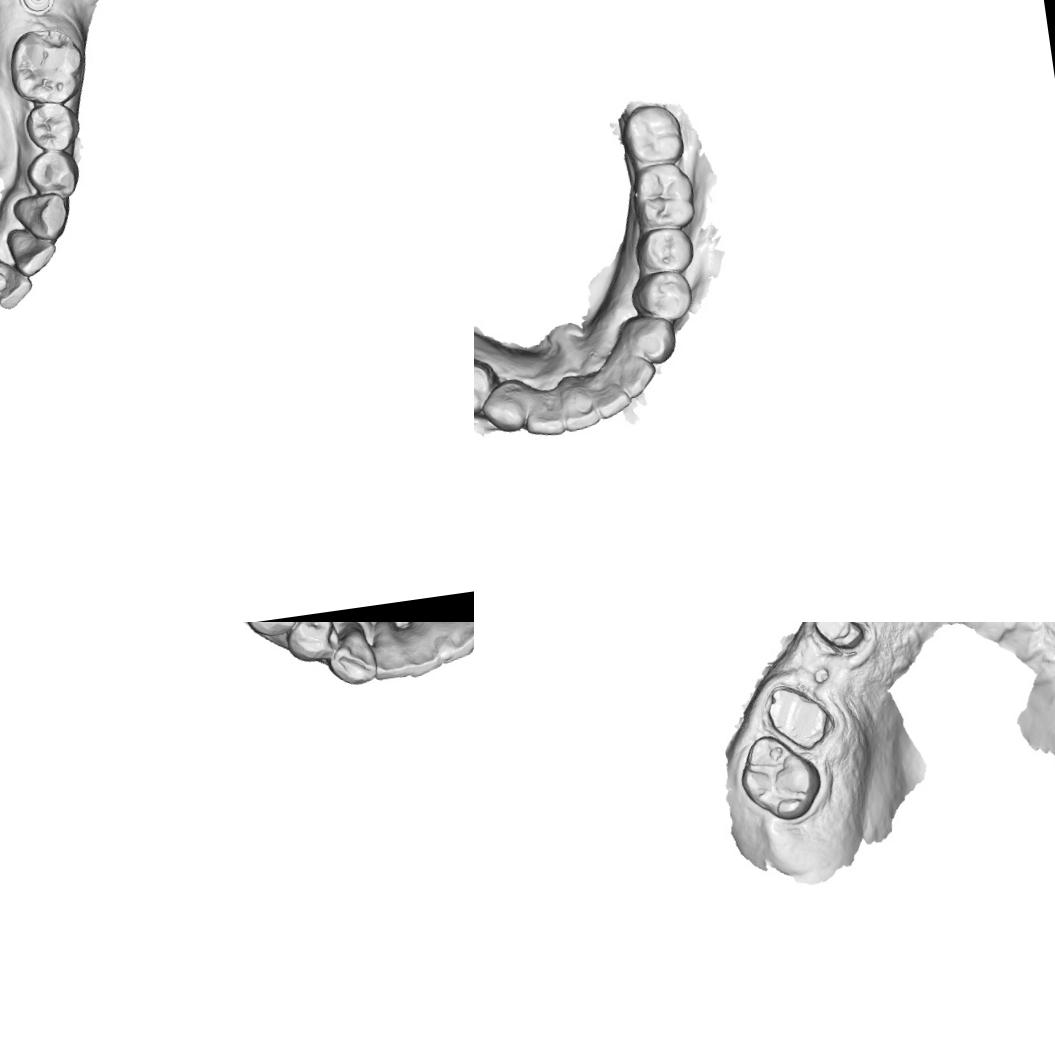canine: (322, 622, 384, 690), (10, 188, 75, 248), (618, 310, 682, 369), (475, 374, 534, 437)
crown: (758, 676, 836, 758), (807, 622, 870, 657)
implant: (16, 0, 58, 20)
incisor: (3, 221, 61, 280), (365, 622, 421, 683), (517, 380, 567, 441), (603, 346, 657, 402), (398, 626, 450, 682), (585, 362, 633, 421), (558, 374, 604, 435), (0, 250, 36, 313), (428, 622, 474, 667), (440, 622, 474, 657), (0, 254, 12, 306)
molar: (733, 728, 827, 828), (3, 22, 91, 109), (628, 160, 700, 234), (616, 98, 687, 172)
premolar: (627, 266, 696, 326), (630, 222, 696, 280), (23, 96, 82, 158), (22, 146, 83, 205), (279, 622, 342, 666), (474, 355, 500, 420), (239, 622, 304, 644)
